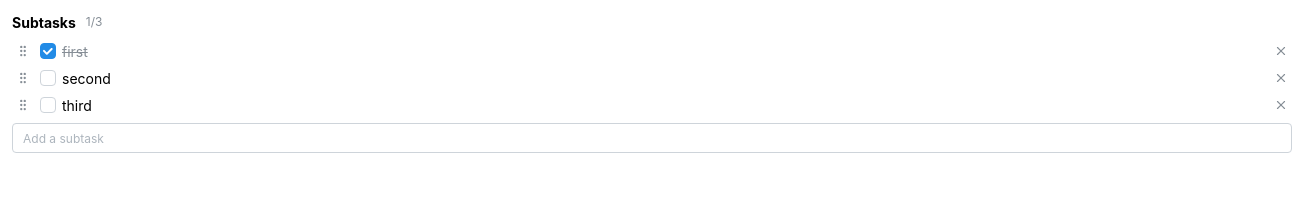
SubtasksSection › Enter adds a subtask and keeps focus in the input
This screenshot has width=1304, height=197.
Type "fourth" into the field named "New subtask". click: (652, 138)
box: [12,123,1292,153]
Then press Enter
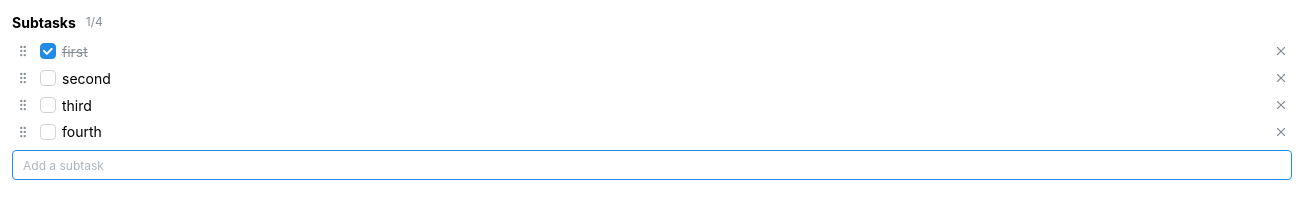
Expected: the field named "New subtask" is empty, [12,150,1292,180]
Expected: the button with aria-label "Edit subtask: fourth" is shown, [62,122,1264,143]
